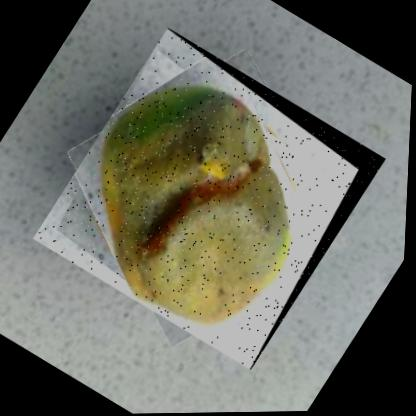orange_rotten: (29, 23, 393, 373)
